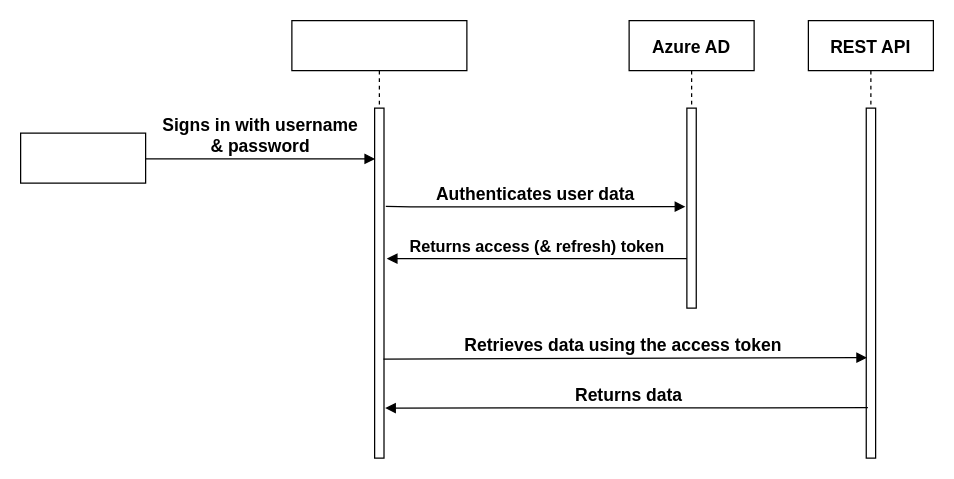
This 954x479 diagram has some shape labels left out. Here are the shapes that lost their labels. From the top down, the centre of each, then its label:
At (x=379, y=63): "Client Application".
At (x=82, y=157): "User".
